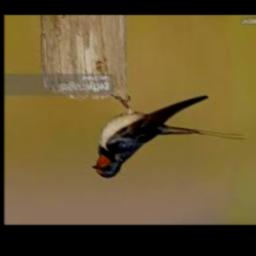Swallow: (92, 96, 244, 179)
